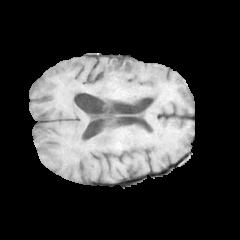glioma: (60, 59, 159, 121)
